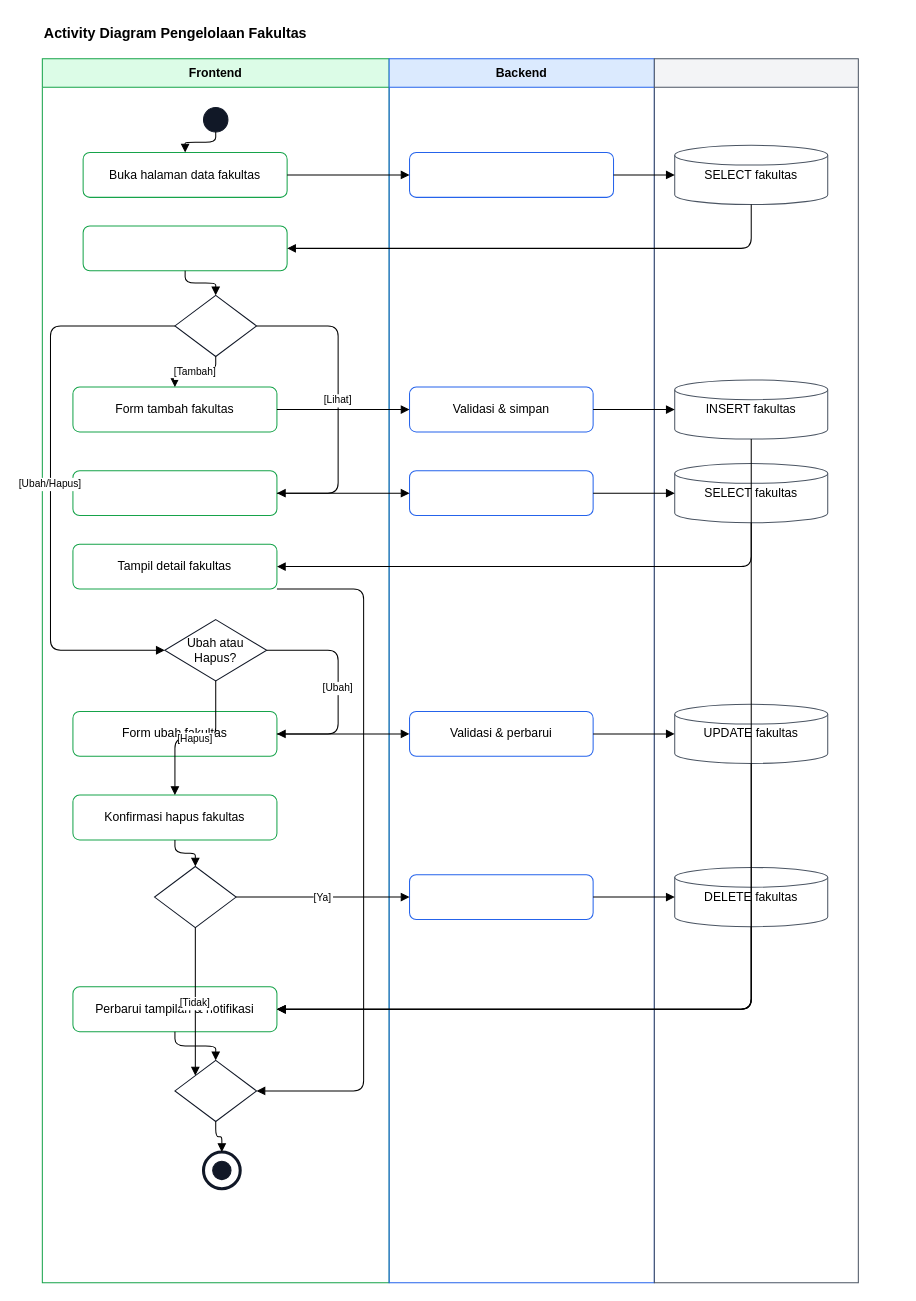
This 916x1301 diagram has some shape labels left out. Here are the shapes that lost their labels. From the top down, the box of each, then its label:
(409, 151, 614, 197): Ambil data fakultas
(82, 225, 287, 271): Tampil daftar fakultas
(174, 294, 257, 356): Pilih aksi?
(72, 470, 277, 516): Lihat detail fakultas
(409, 470, 593, 516): Ambil detail fakultas
(653, 58, 858, 1283): Basis Data
(154, 865, 236, 928): Konfirmasi?
(409, 874, 593, 920): Proses hapus
